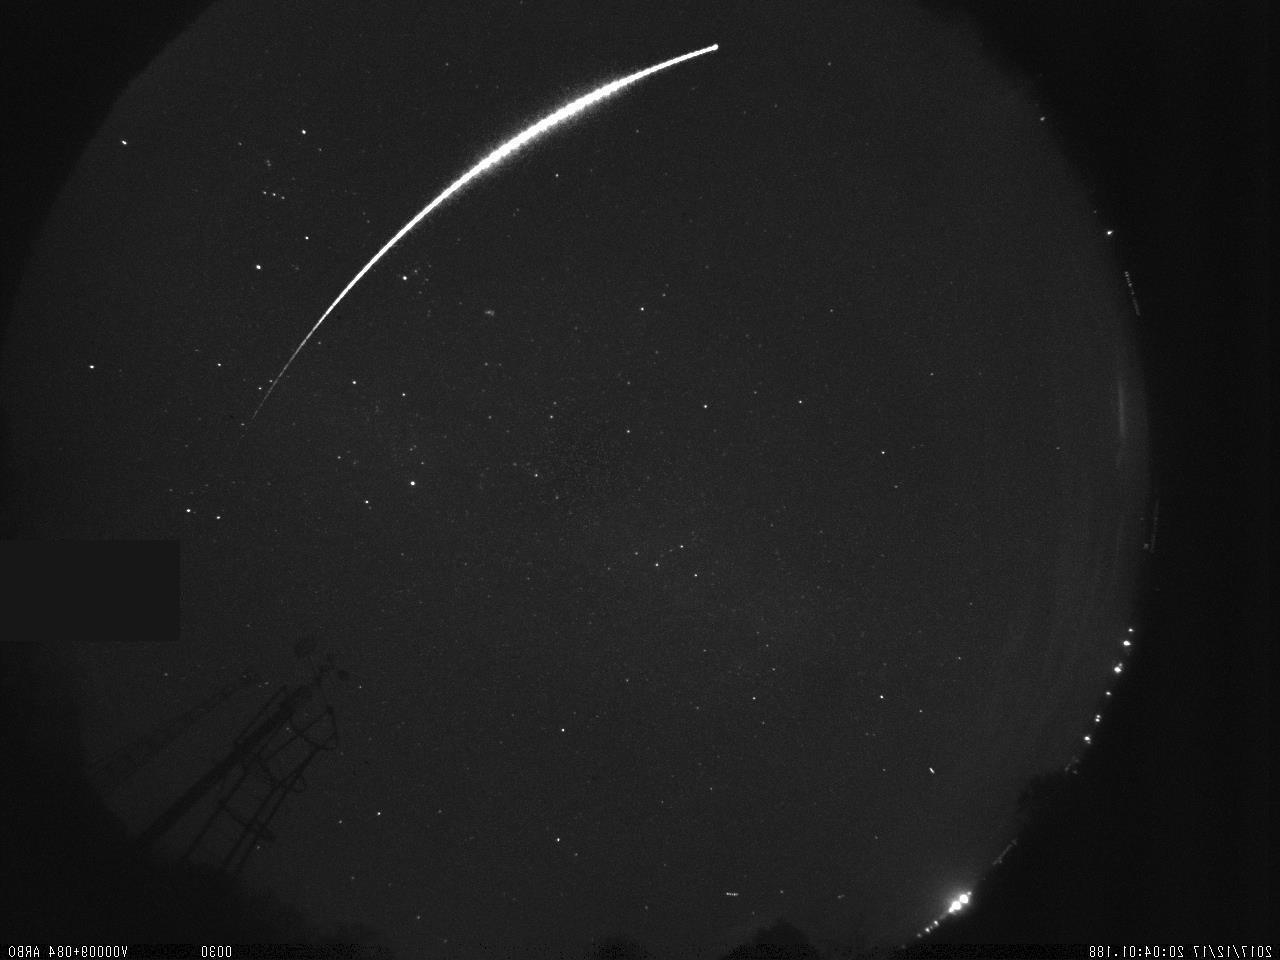meteor: (242, 26, 752, 436)
